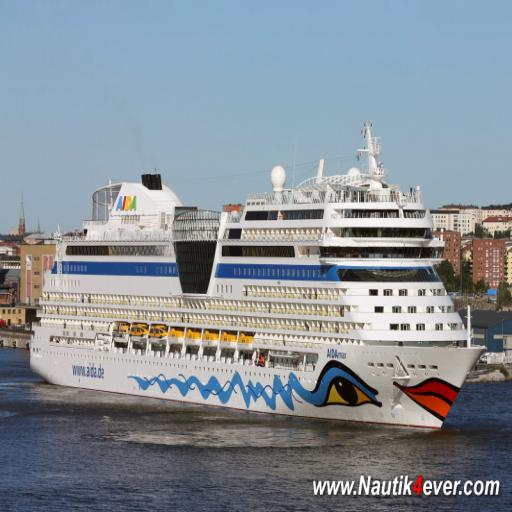cruises: (27, 120, 489, 436)
